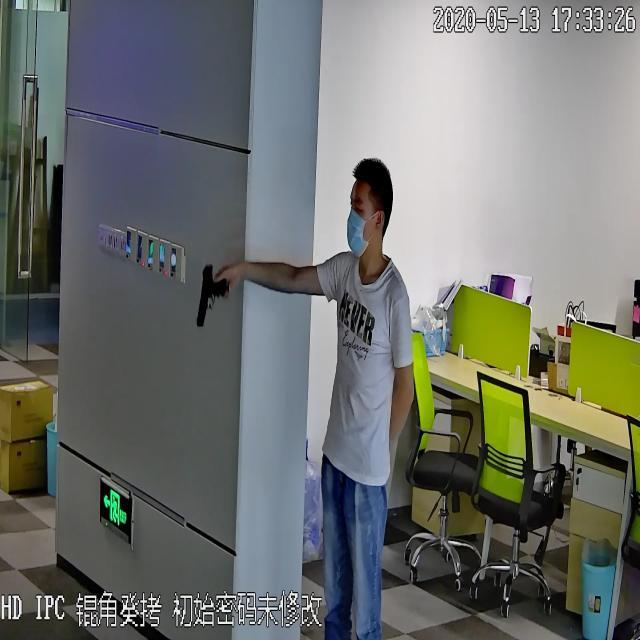gun-knife-thesis - v11 Yolov5 augmented: (187, 258, 227, 332)
